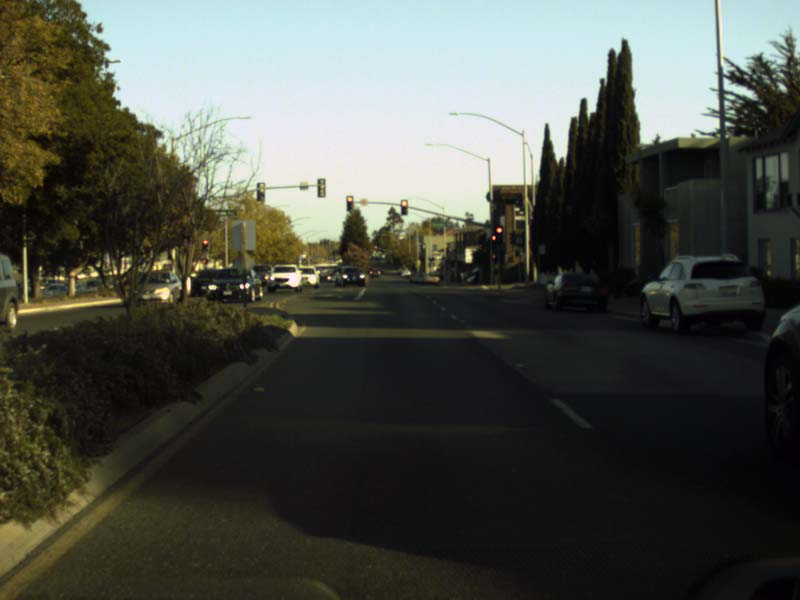Red: (495, 224, 503, 243), (400, 199, 407, 215), (346, 195, 353, 210), (202, 239, 209, 252), (491, 234, 497, 249)
